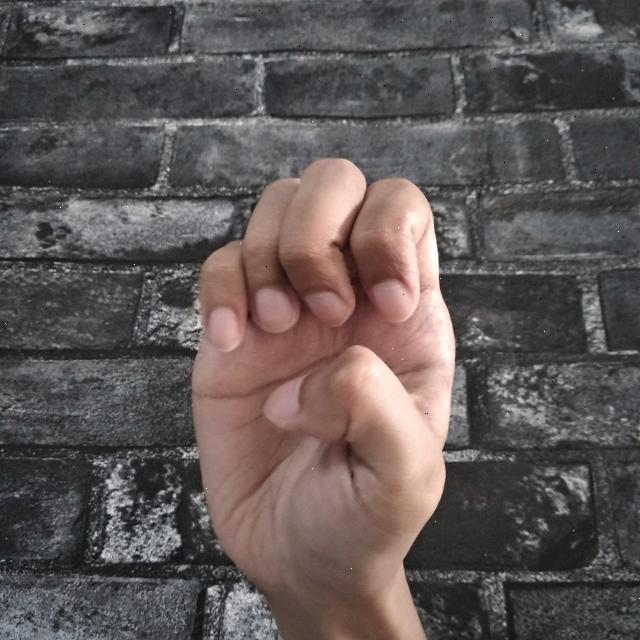E: (190, 150, 461, 640)
